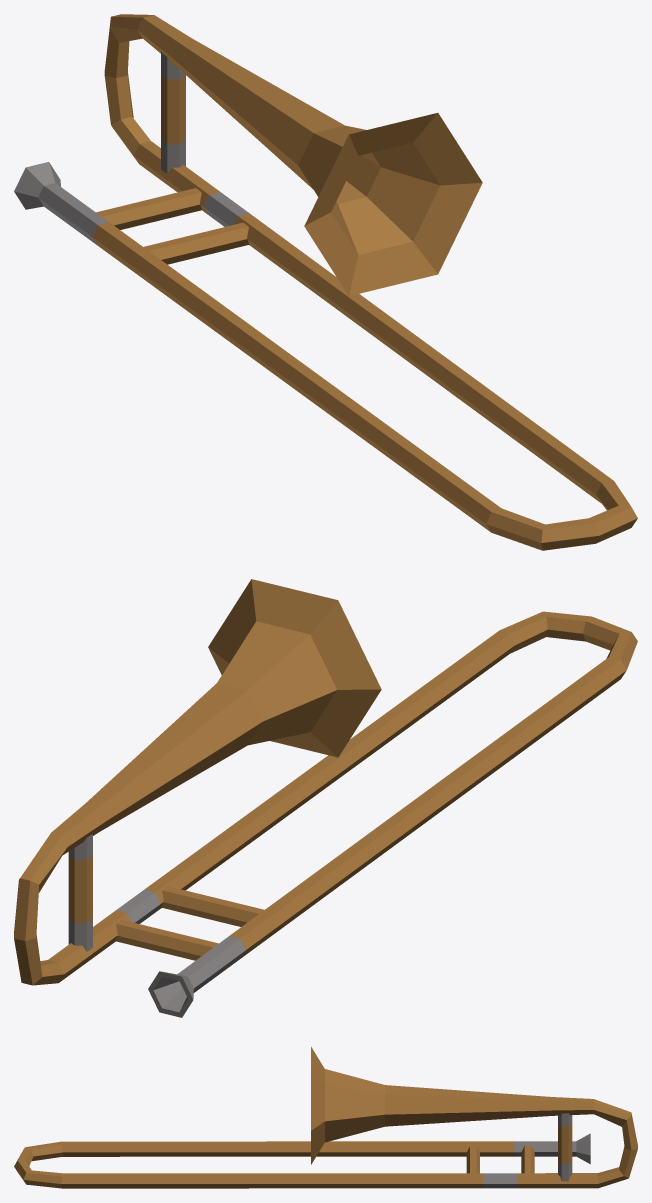
The model's file is trombone-soprano.fbx.
The picture shows the model from 3 angles, top to bottom: view 1: azimuth 30°, elevation 25°; view 2: azimuth 150°, elevation 25°; view 3: azimuth 270°, elevation 25°; orthographic projection. The views are drawn at different scales.
Parts seen in each view (by area): view 1: trombone-soprano; view 2: trombone-soprano; view 3: trombone-soprano.
Part boxes in pixels (box(x1,y1,x2,y2)): trombone-soprano: box(14, 14, 637, 550); trombone-soprano: box(14, 579, 637, 1017); trombone-soprano: box(14, 1047, 637, 1188).
Size of the model in its own units: 0.1528 by 0.1496 by 0.6301.
